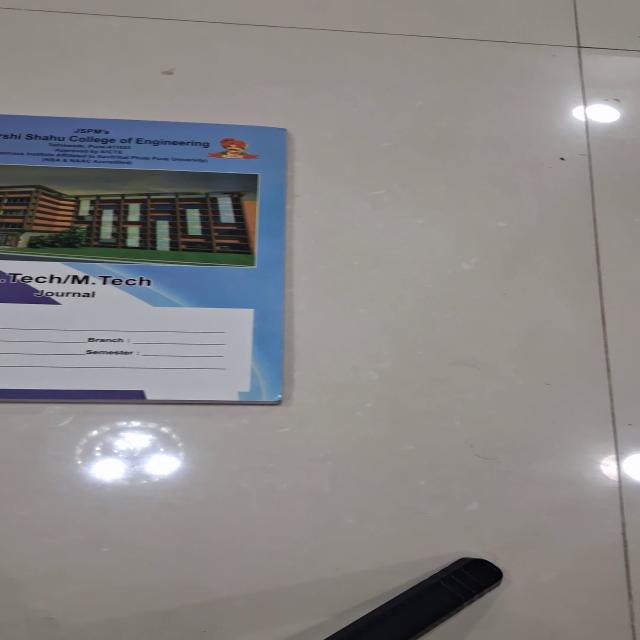paper: (1, 114, 288, 404)
